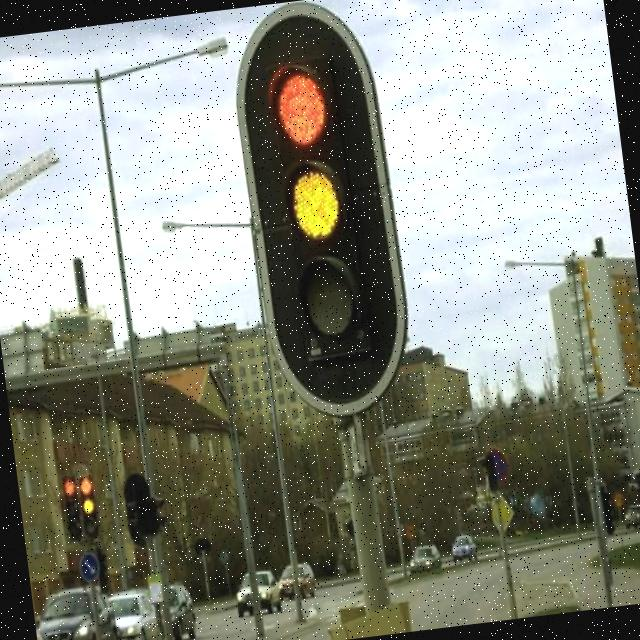Zolte swiatlo: (230, 0, 407, 408), (80, 474, 98, 536)
